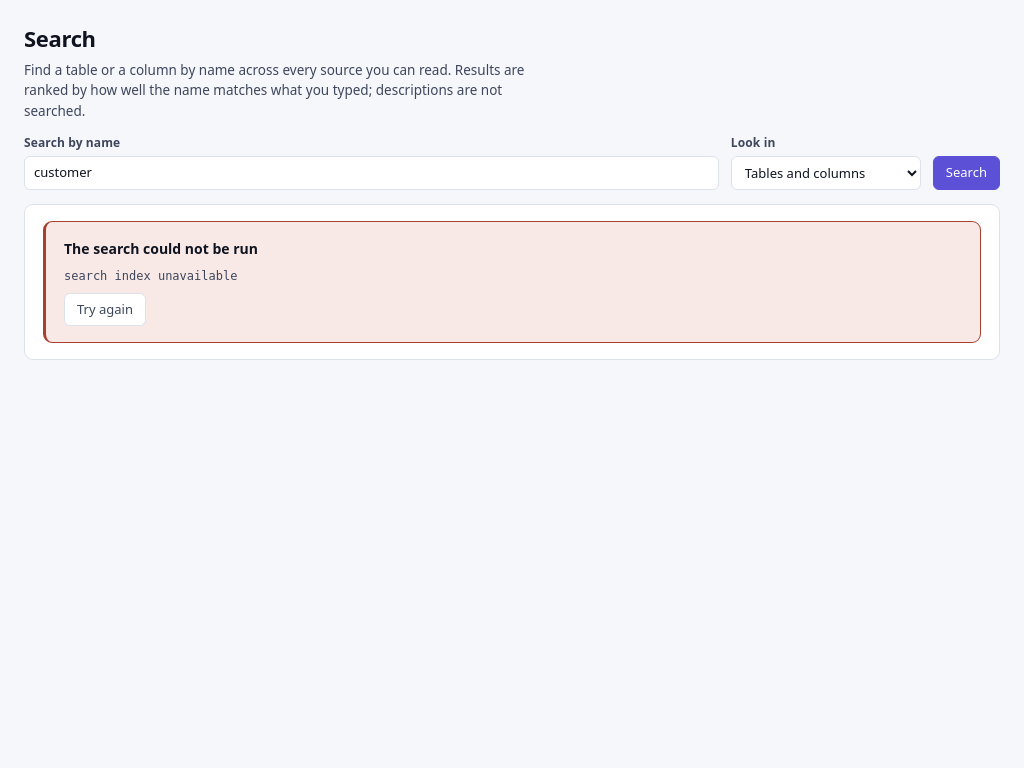
Test: every state says what it is › says it failed, in the server's words, and can try again
Expected: the message shows "The search could not be run", top-left (64, 238), bottom-right (258, 258)
Expected: the message shows "search index unavailable", top-left (64, 268), bottom-right (237, 282)
Click the button "Try again". click: (105, 309)
box: top-left (64, 292), bottom-right (146, 326)
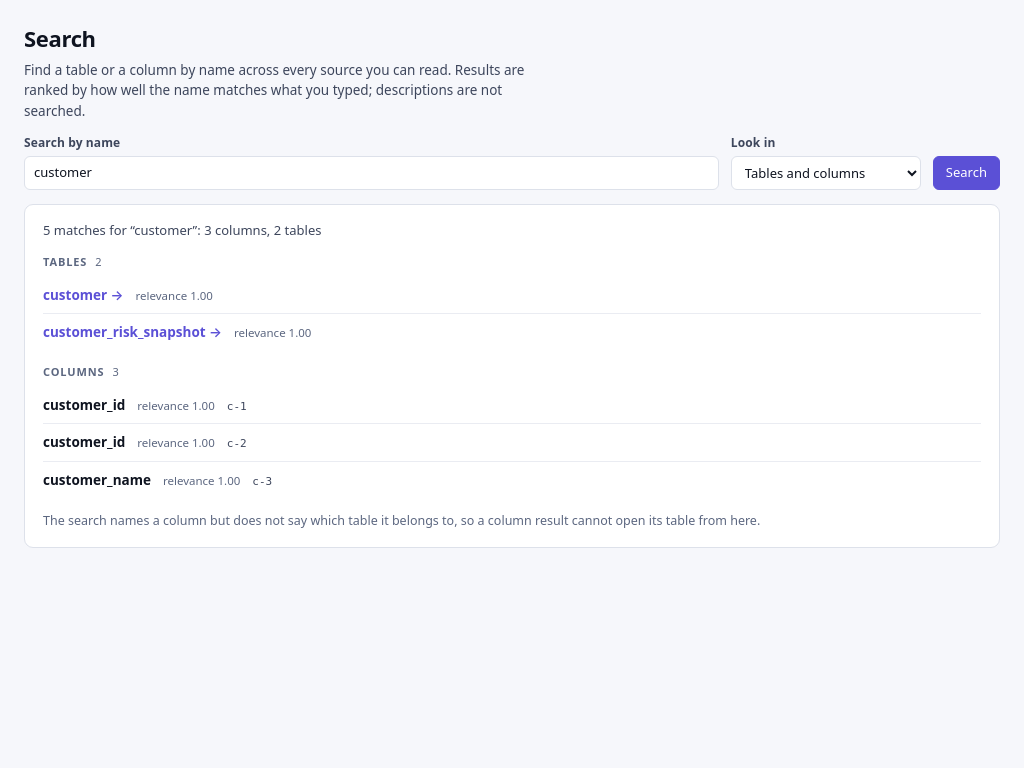
Result: the text "5 matches for “customer”: 3 columns, 2 tables" is shown at top-left (43, 220), bottom-right (322, 238)
